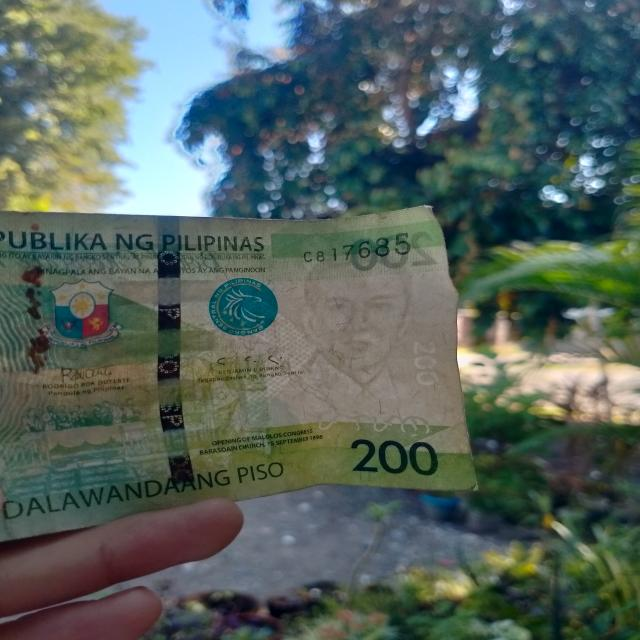security_thread: (153, 213, 198, 504)
see_through_mark: (297, 408, 439, 443)
value_watermark: (413, 337, 449, 395)
watermark: (276, 258, 426, 414)
